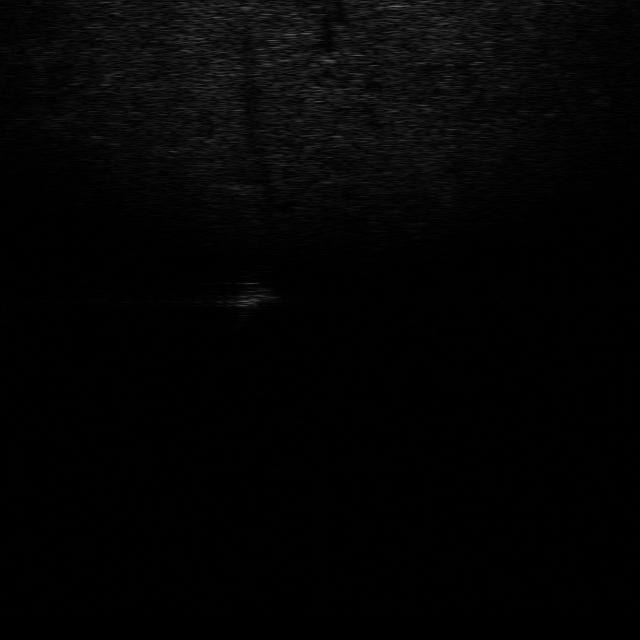human body: (222, 276, 276, 324)
